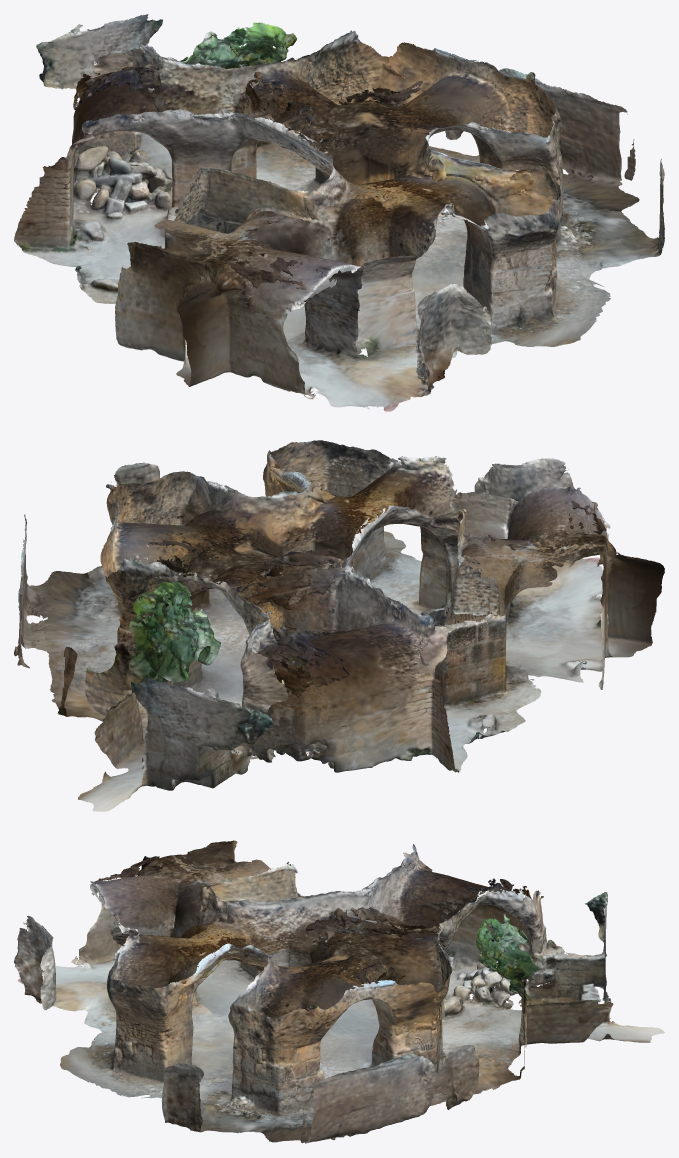
The model's file is test-scan-underground-passageways.glb.
3 views of the same model, one above another, from view 1: azimuth 30°, elevation 25°; view 2: azimuth 150°, elevation 25°; view 3: azimuth 270°, elevation 25° (orthographic). The views are drawn at different scales.
Parts seen in each view (by area): view 1: Scaniverse; view 2: Scaniverse; view 3: Scaniverse.
Part boxes in pixels (x1=…): Scaniverse: x1=14, y1=14, x2=664, y2=411; Scaniverse: x1=14, y1=440, x2=664, y2=811; Scaniverse: x1=14, y1=840, x2=664, y2=1143.
Bounding box in the file's own units: 16.47 × 4.34 × 20.19.
Materials: 1 (1 with a texture image).
